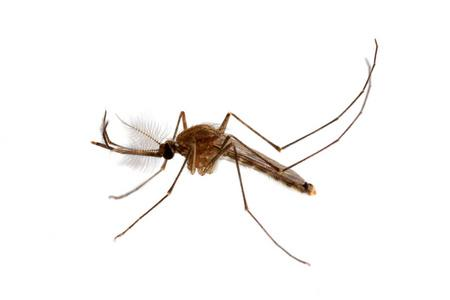Cecidomyiidae: (92, 38, 380, 270)
